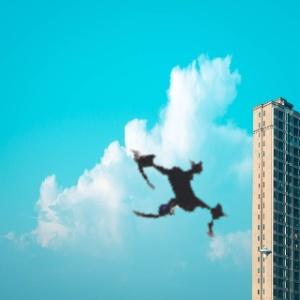drone: (78, 88, 285, 295)
